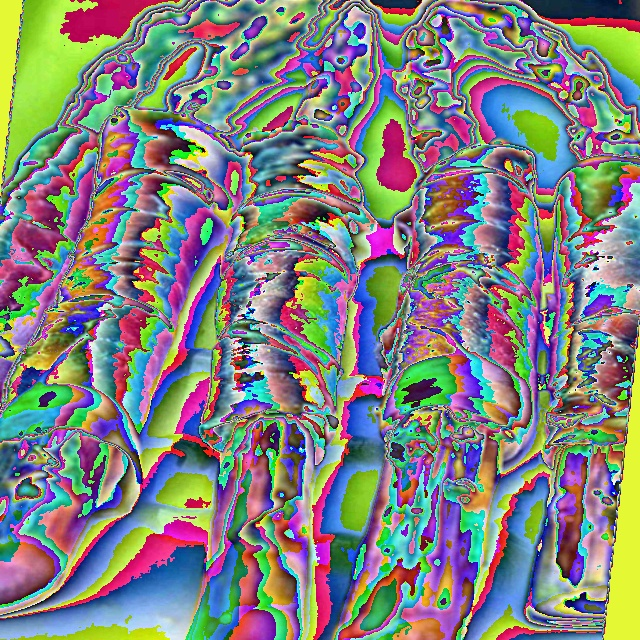background: (0, 0, 380, 640), (306, 0, 639, 640)
